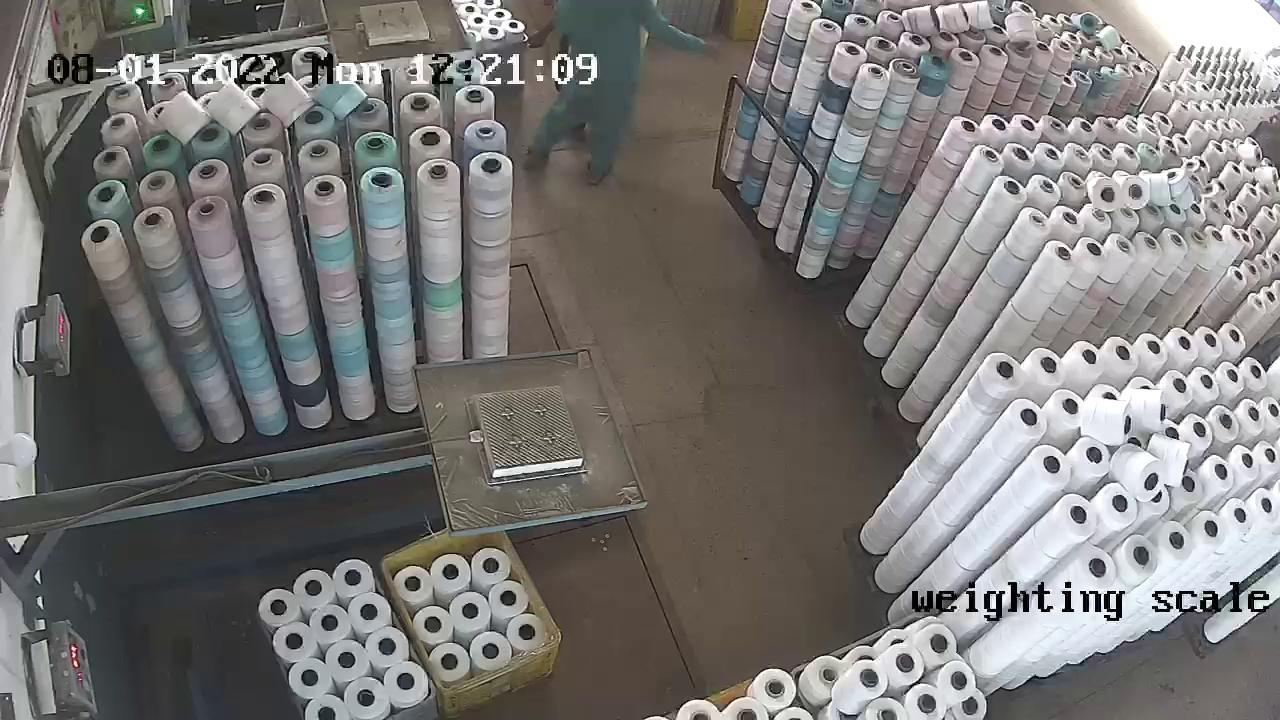person: (554, 5, 620, 185)
